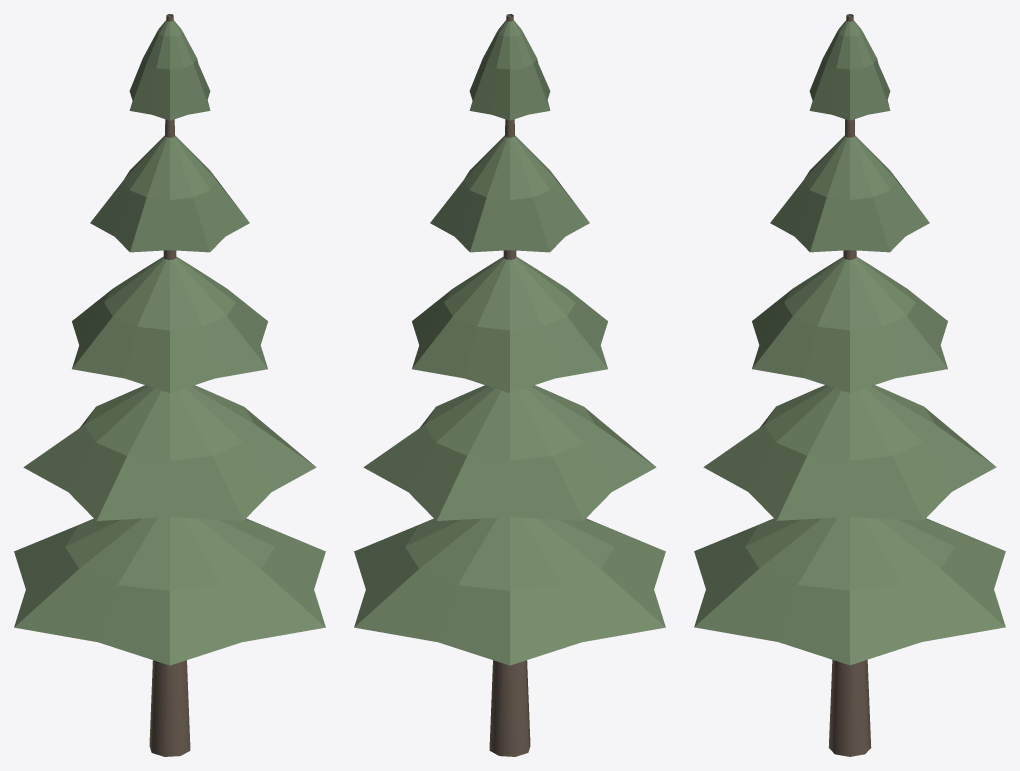
The model's file is conifer_LOD1.fbx.
The picture shows the model from 3 angles, left to right: view 1: azimuth 30°, elevation 25°; view 2: azimuth 150°, elevation 25°; view 3: azimuth 270°, elevation 25°; orthographic projection.
Visible parts, largest first — view 1: conifer_LOD1; view 2: conifer_LOD1; view 3: conifer_LOD1.
Boxes of the visible parts, x1,y1,x2,y2 form: conifer_LOD1: [14, 14, 325, 756]; conifer_LOD1: [354, 14, 665, 756]; conifer_LOD1: [694, 14, 1005, 756].
Bounding box in the file's own units: 5.35 × 12 × 4.63.
